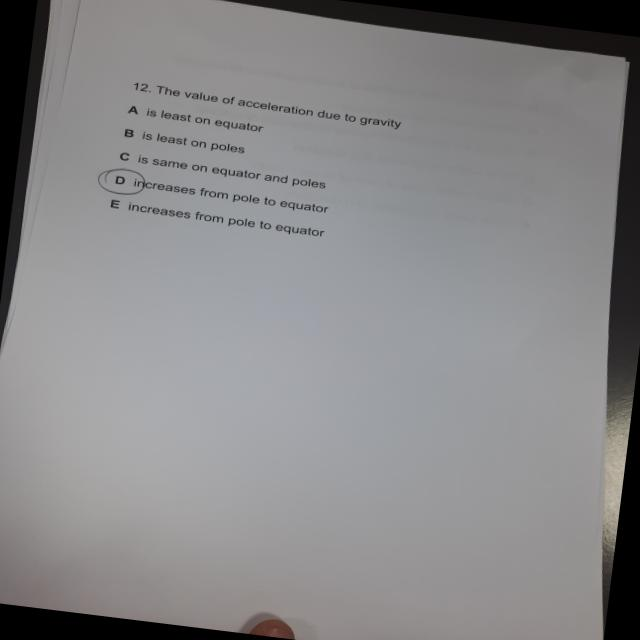D: (91, 164, 153, 201)
